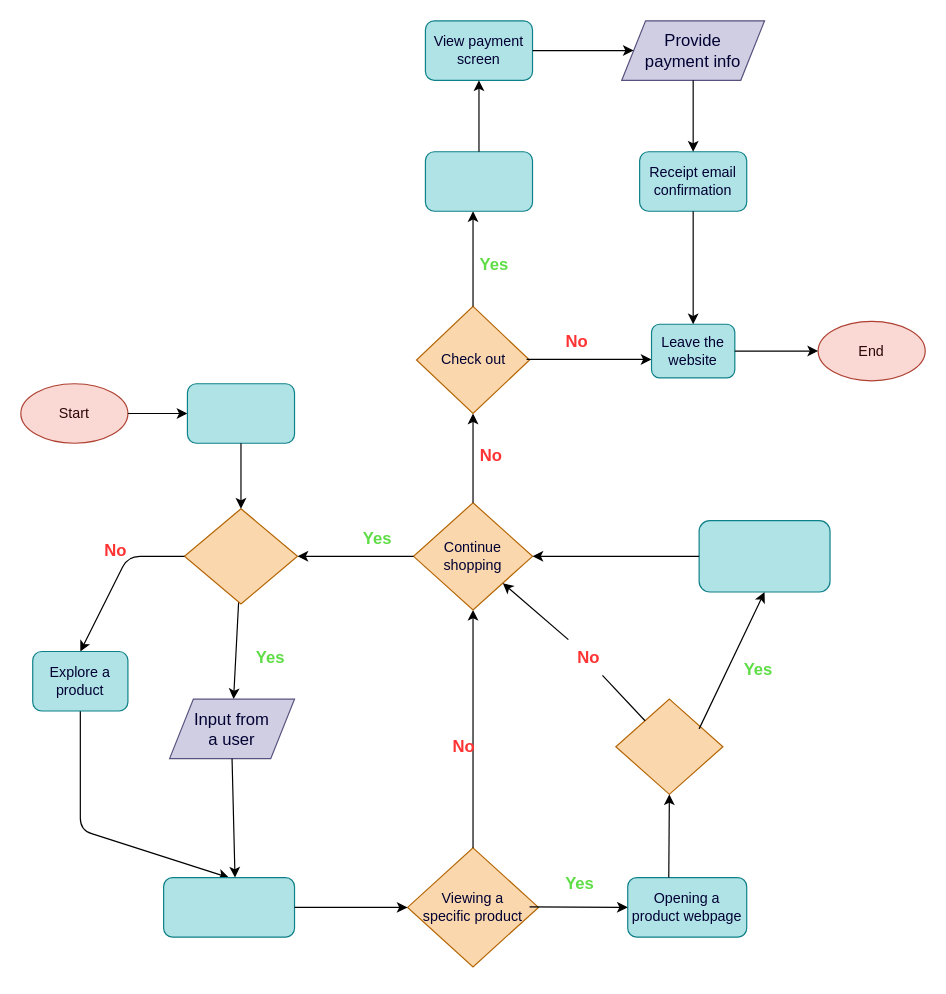
The diagram is 946 pixels wide and 994 high, and some of its shapes have lost their labels. The centre of each missing label's shape, as x and y in pixels:
"Add to a cart" belongs at pixel 669 746.
"Add to cart confirmation" belongs at pixel 764 555.
"Enter the website" belongs at pixel 240 413.
"Looking over the products" belongs at pixel 228 906.
"Search for a product" belongs at pixel 240 556.
"View cart screen" belongs at pixel 478 181.
